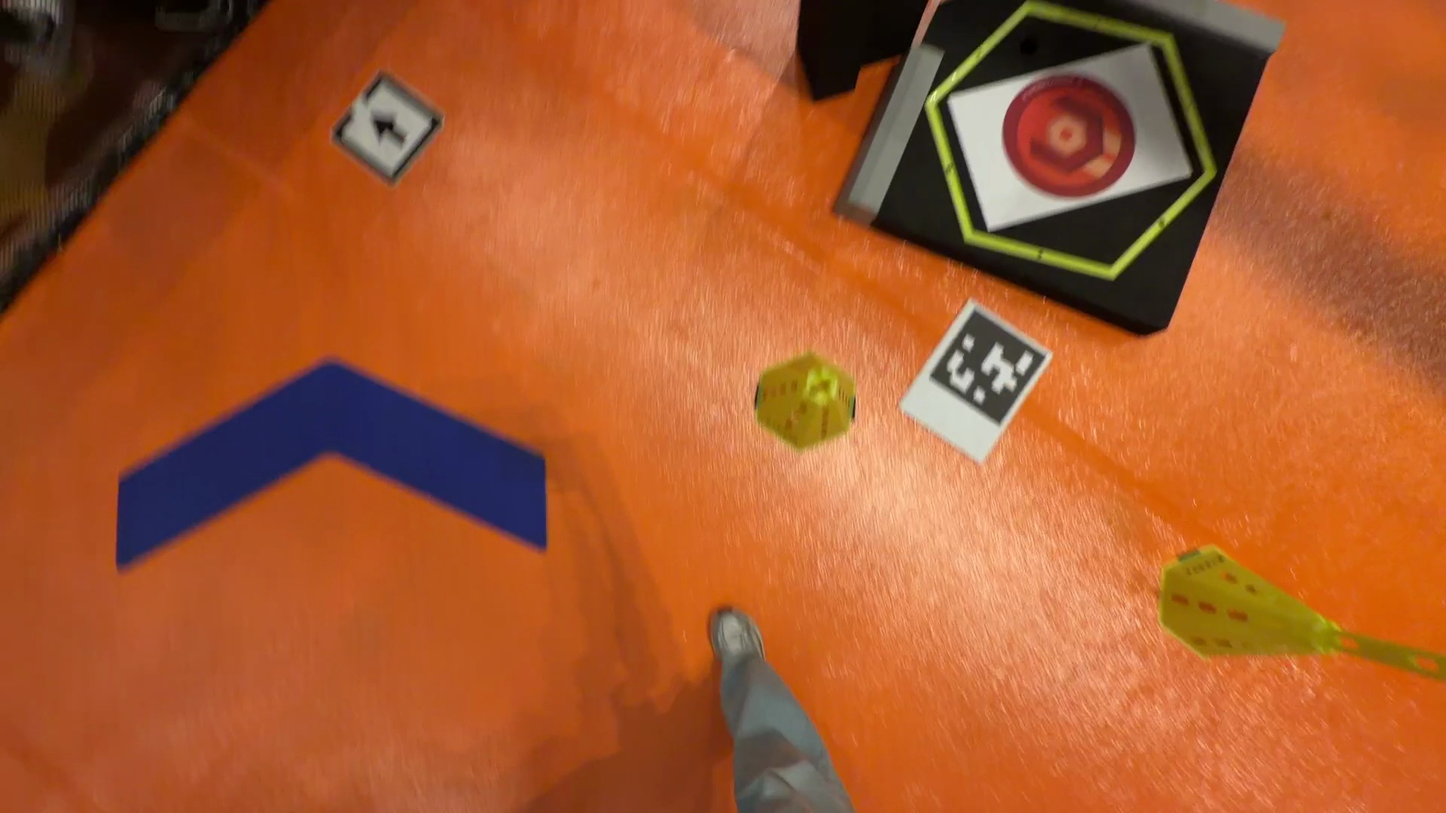landing_pad: (1002, 73, 1139, 198)
